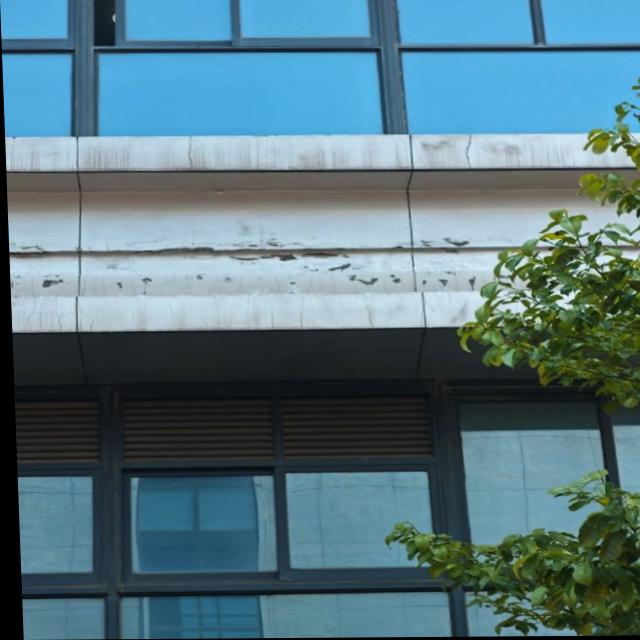crack: (17, 272, 39, 335), (292, 276, 315, 328), (181, 134, 200, 174), (459, 135, 478, 173), (358, 295, 378, 328)
spalling: (12, 231, 491, 297)
